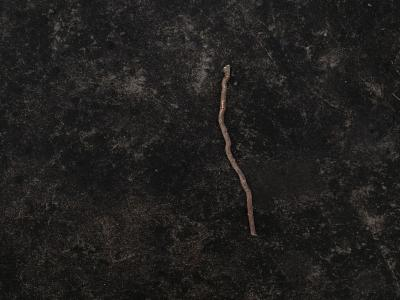Root: (218, 65, 256, 236)
